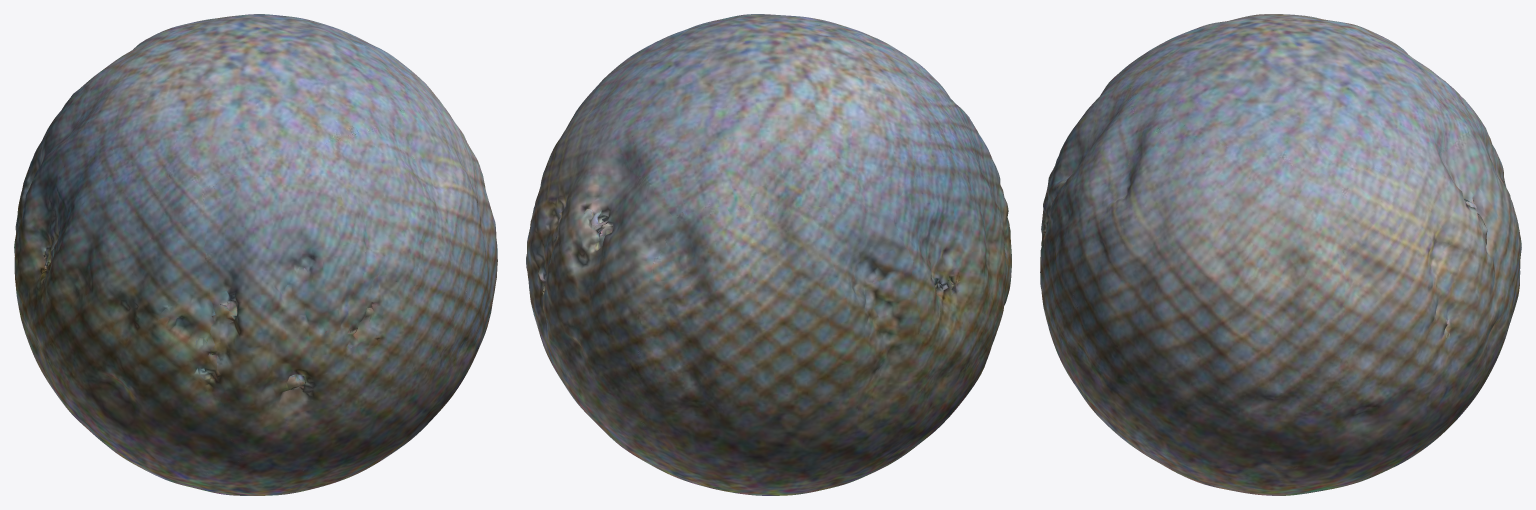
The model's file is ball.glb.
3 views of the same model, side by side, from view 1: azimuth 30°, elevation 25°; view 2: azimuth 150°, elevation 25°; view 3: azimuth 270°, elevation 25° (orthographic).
Visible parts, largest first — view 1: Mesh1; view 2: Mesh1; view 3: Mesh1.
Part boxes in pixels (x1,y1,x2,y2): Mesh1: (14, 14, 497, 495); Mesh1: (526, 14, 1011, 495); Mesh1: (1040, 14, 1521, 495).
Size of the model in its own units: 1.2 by 1.2 by 1.2.
Materials: 1 (1 with a texture image).
